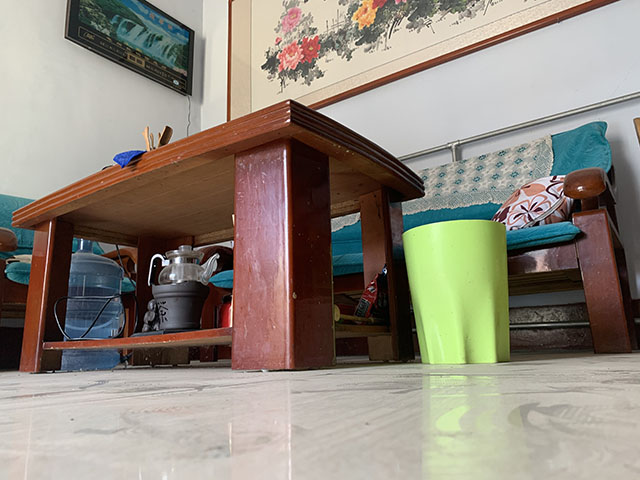sofa: (401, 119, 637, 356)
table: (8, 98, 428, 375)
trashcan: (400, 218, 512, 366)
